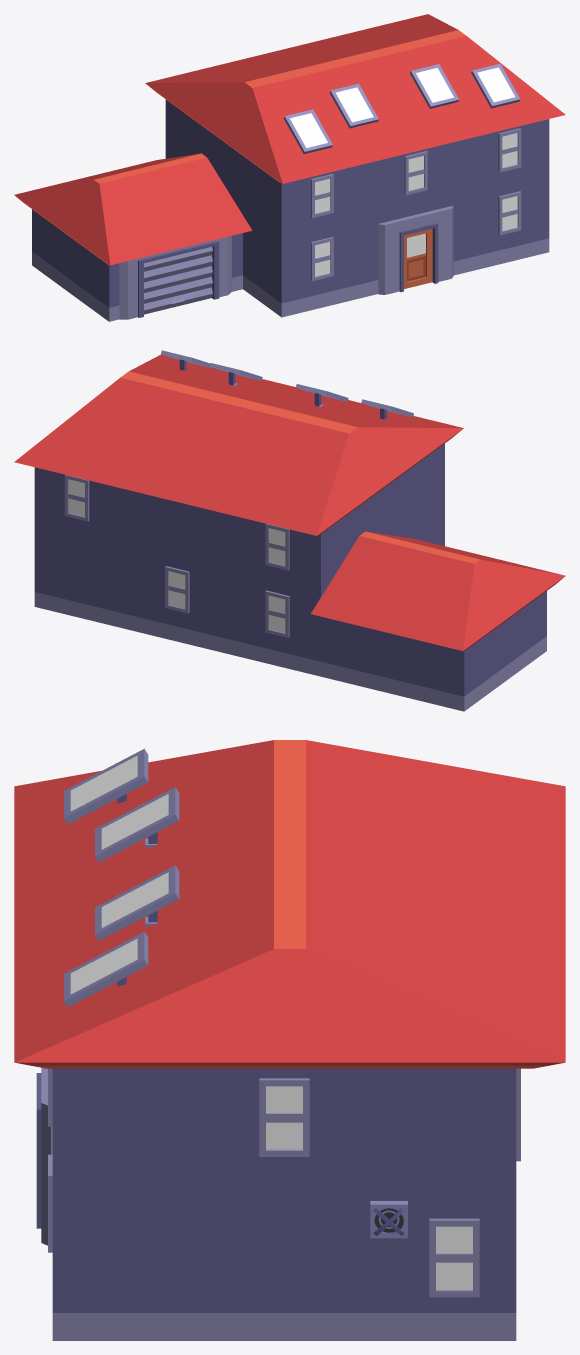
File: house_.fbx
3 renders of one model, top to bottom at view 1: azimuth 30°, elevation 25°; view 2: azimuth 150°, elevation 25°; view 3: azimuth 270°, elevation 25°, orthographic. The views are drawn at different scales.
Visible parts, largest first — view 1: mergedBlocks; view 2: mergedBlocks; view 3: mergedBlocks.
Part boxes in pixels (left/top/right/bottom): mergedBlocks: left=14, top=14, right=565, bottom=321; mergedBlocks: left=14, top=350, right=565, bottom=711; mergedBlocks: left=14, top=740, right=565, bottom=1340.
Bounding box in the file's own units: 62.3 × 26.43 × 35.66.
